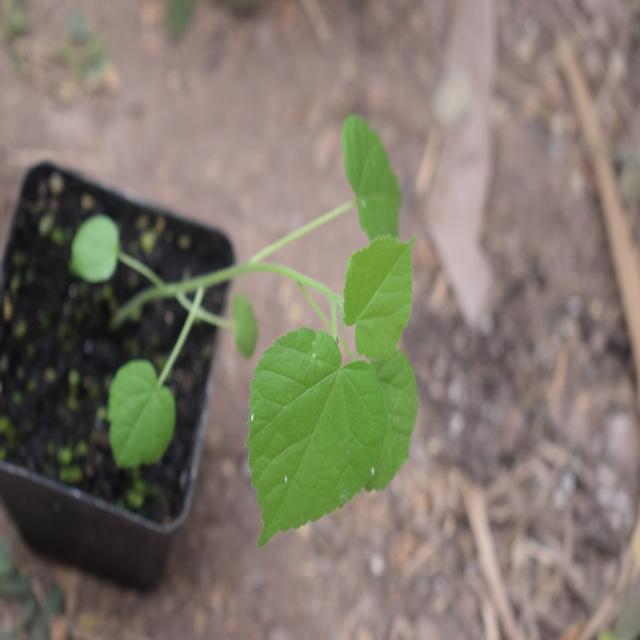abutilon theophrasti: (217, 92, 448, 531)
